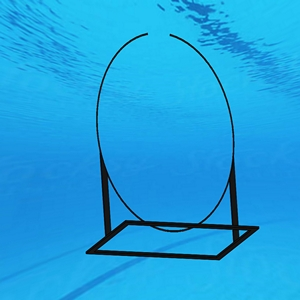circle: (82, 30, 261, 263)
